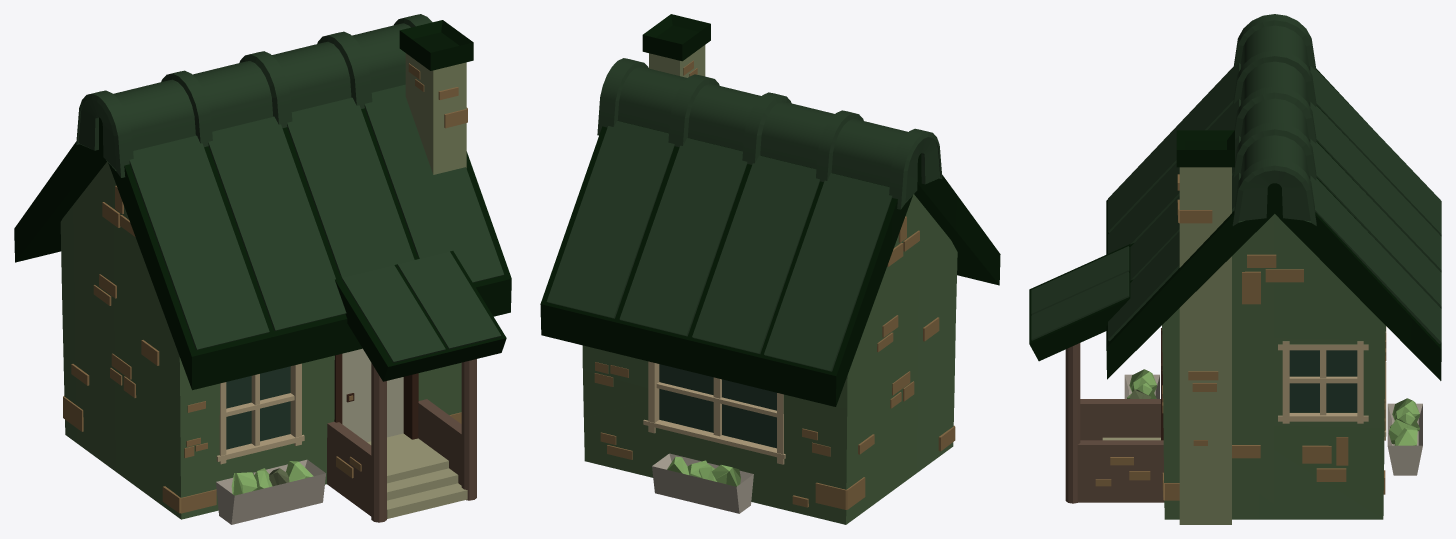
Rendered from green.fbx.
3 renders of one model, left to right at view 1: azimuth 30°, elevation 25°; view 2: azimuth 150°, elevation 25°; view 3: azimuth 270°, elevation 25°, orthographic. The views are drawn at different scales.
Visible parts, largest first — view 1: green:polySurface1; view 2: green:polySurface1; view 3: green:polySurface1.
Boxes of the visible parts, bbox=[...] form: green:polySurface1: bbox=[14, 14, 511, 524]; green:polySurface1: bbox=[540, 14, 1000, 524]; green:polySurface1: bbox=[1029, 14, 1441, 524].
Bounding box in the file's own units: 4.01 × 4.63 × 4.58.
